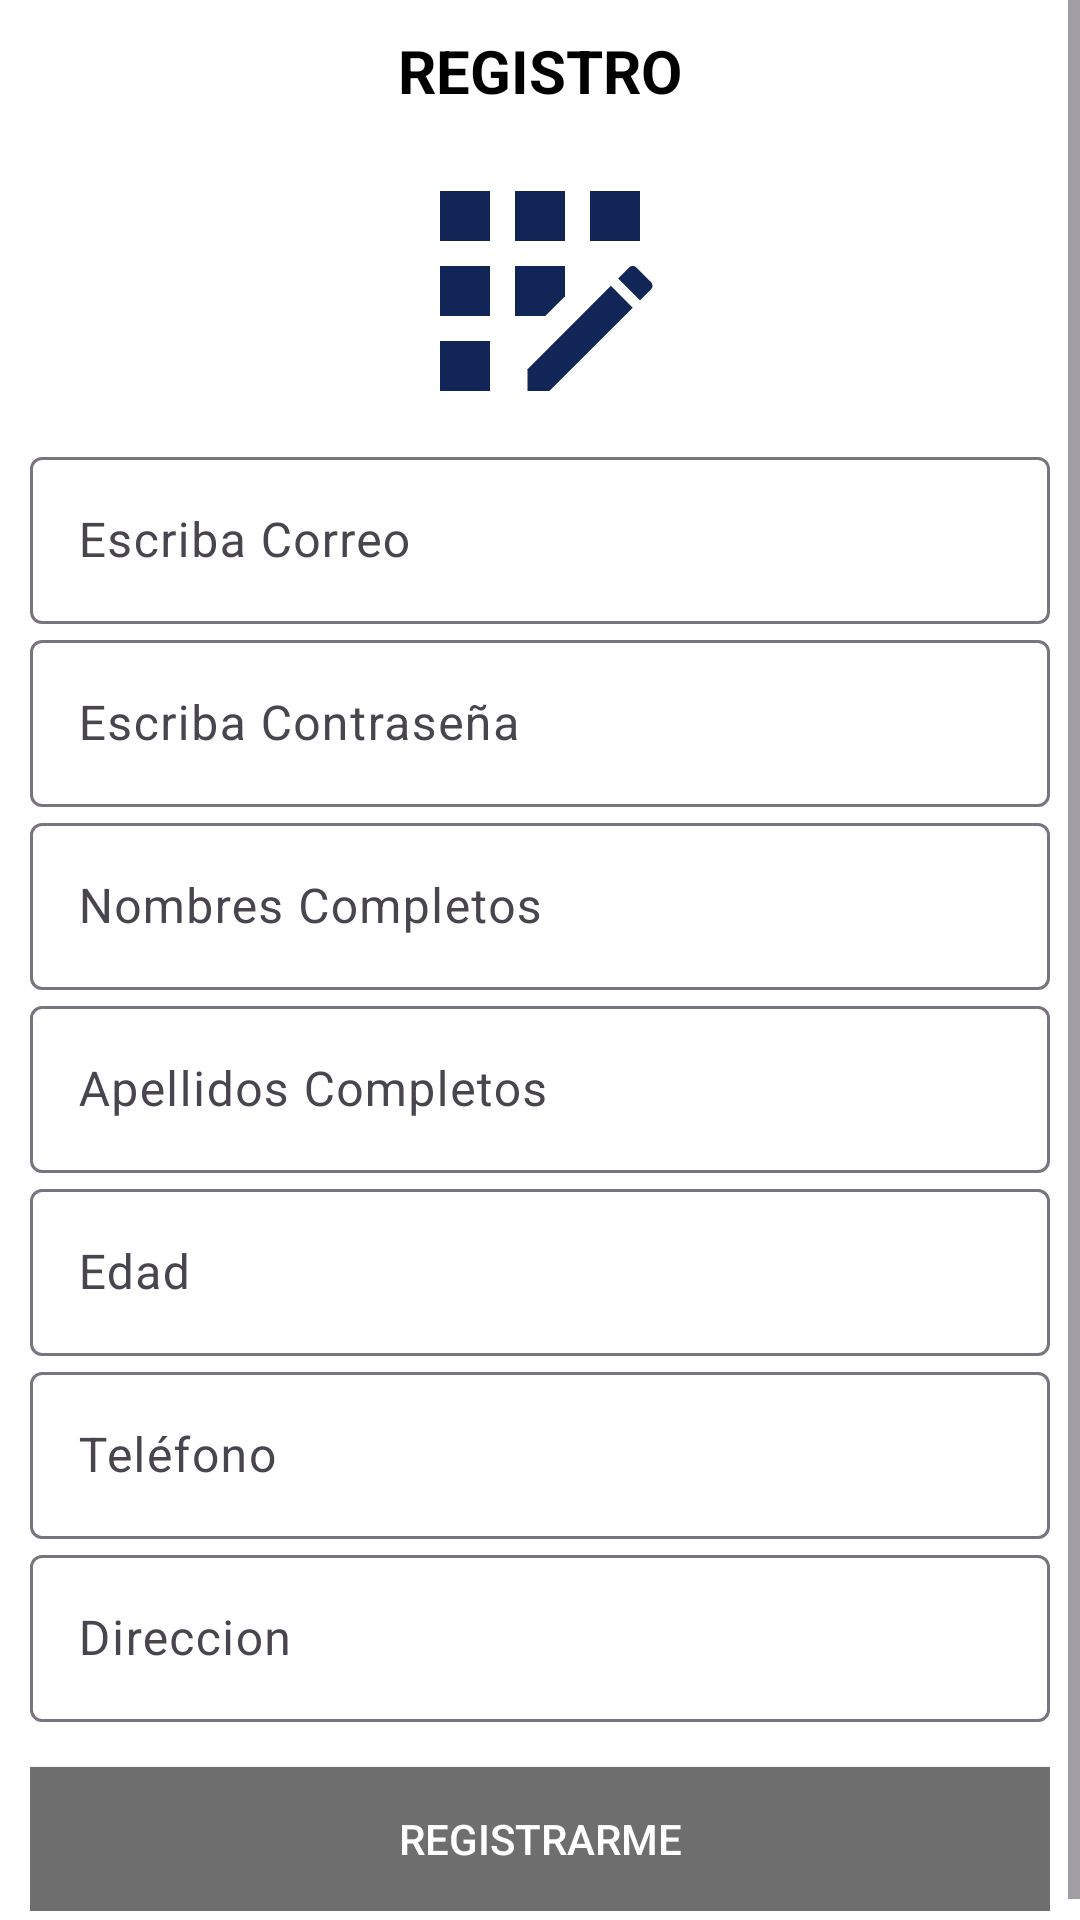

Named icons in this screenshot (1080w x 1920h) and their bounding boxes, (x1, y1, x2, y2):
registration: (440, 191, 653, 391)
